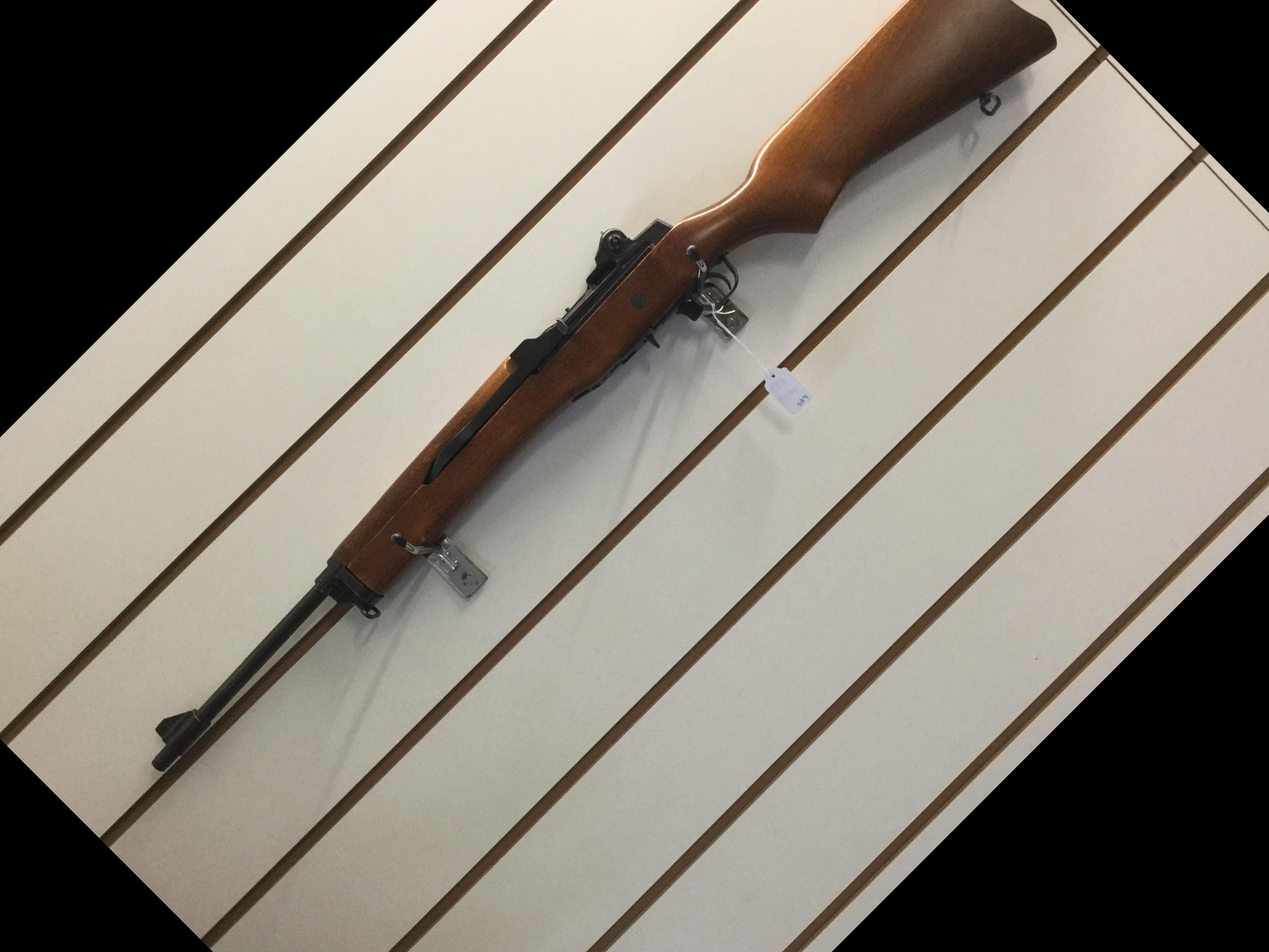larga: (152, 0, 1060, 776)
